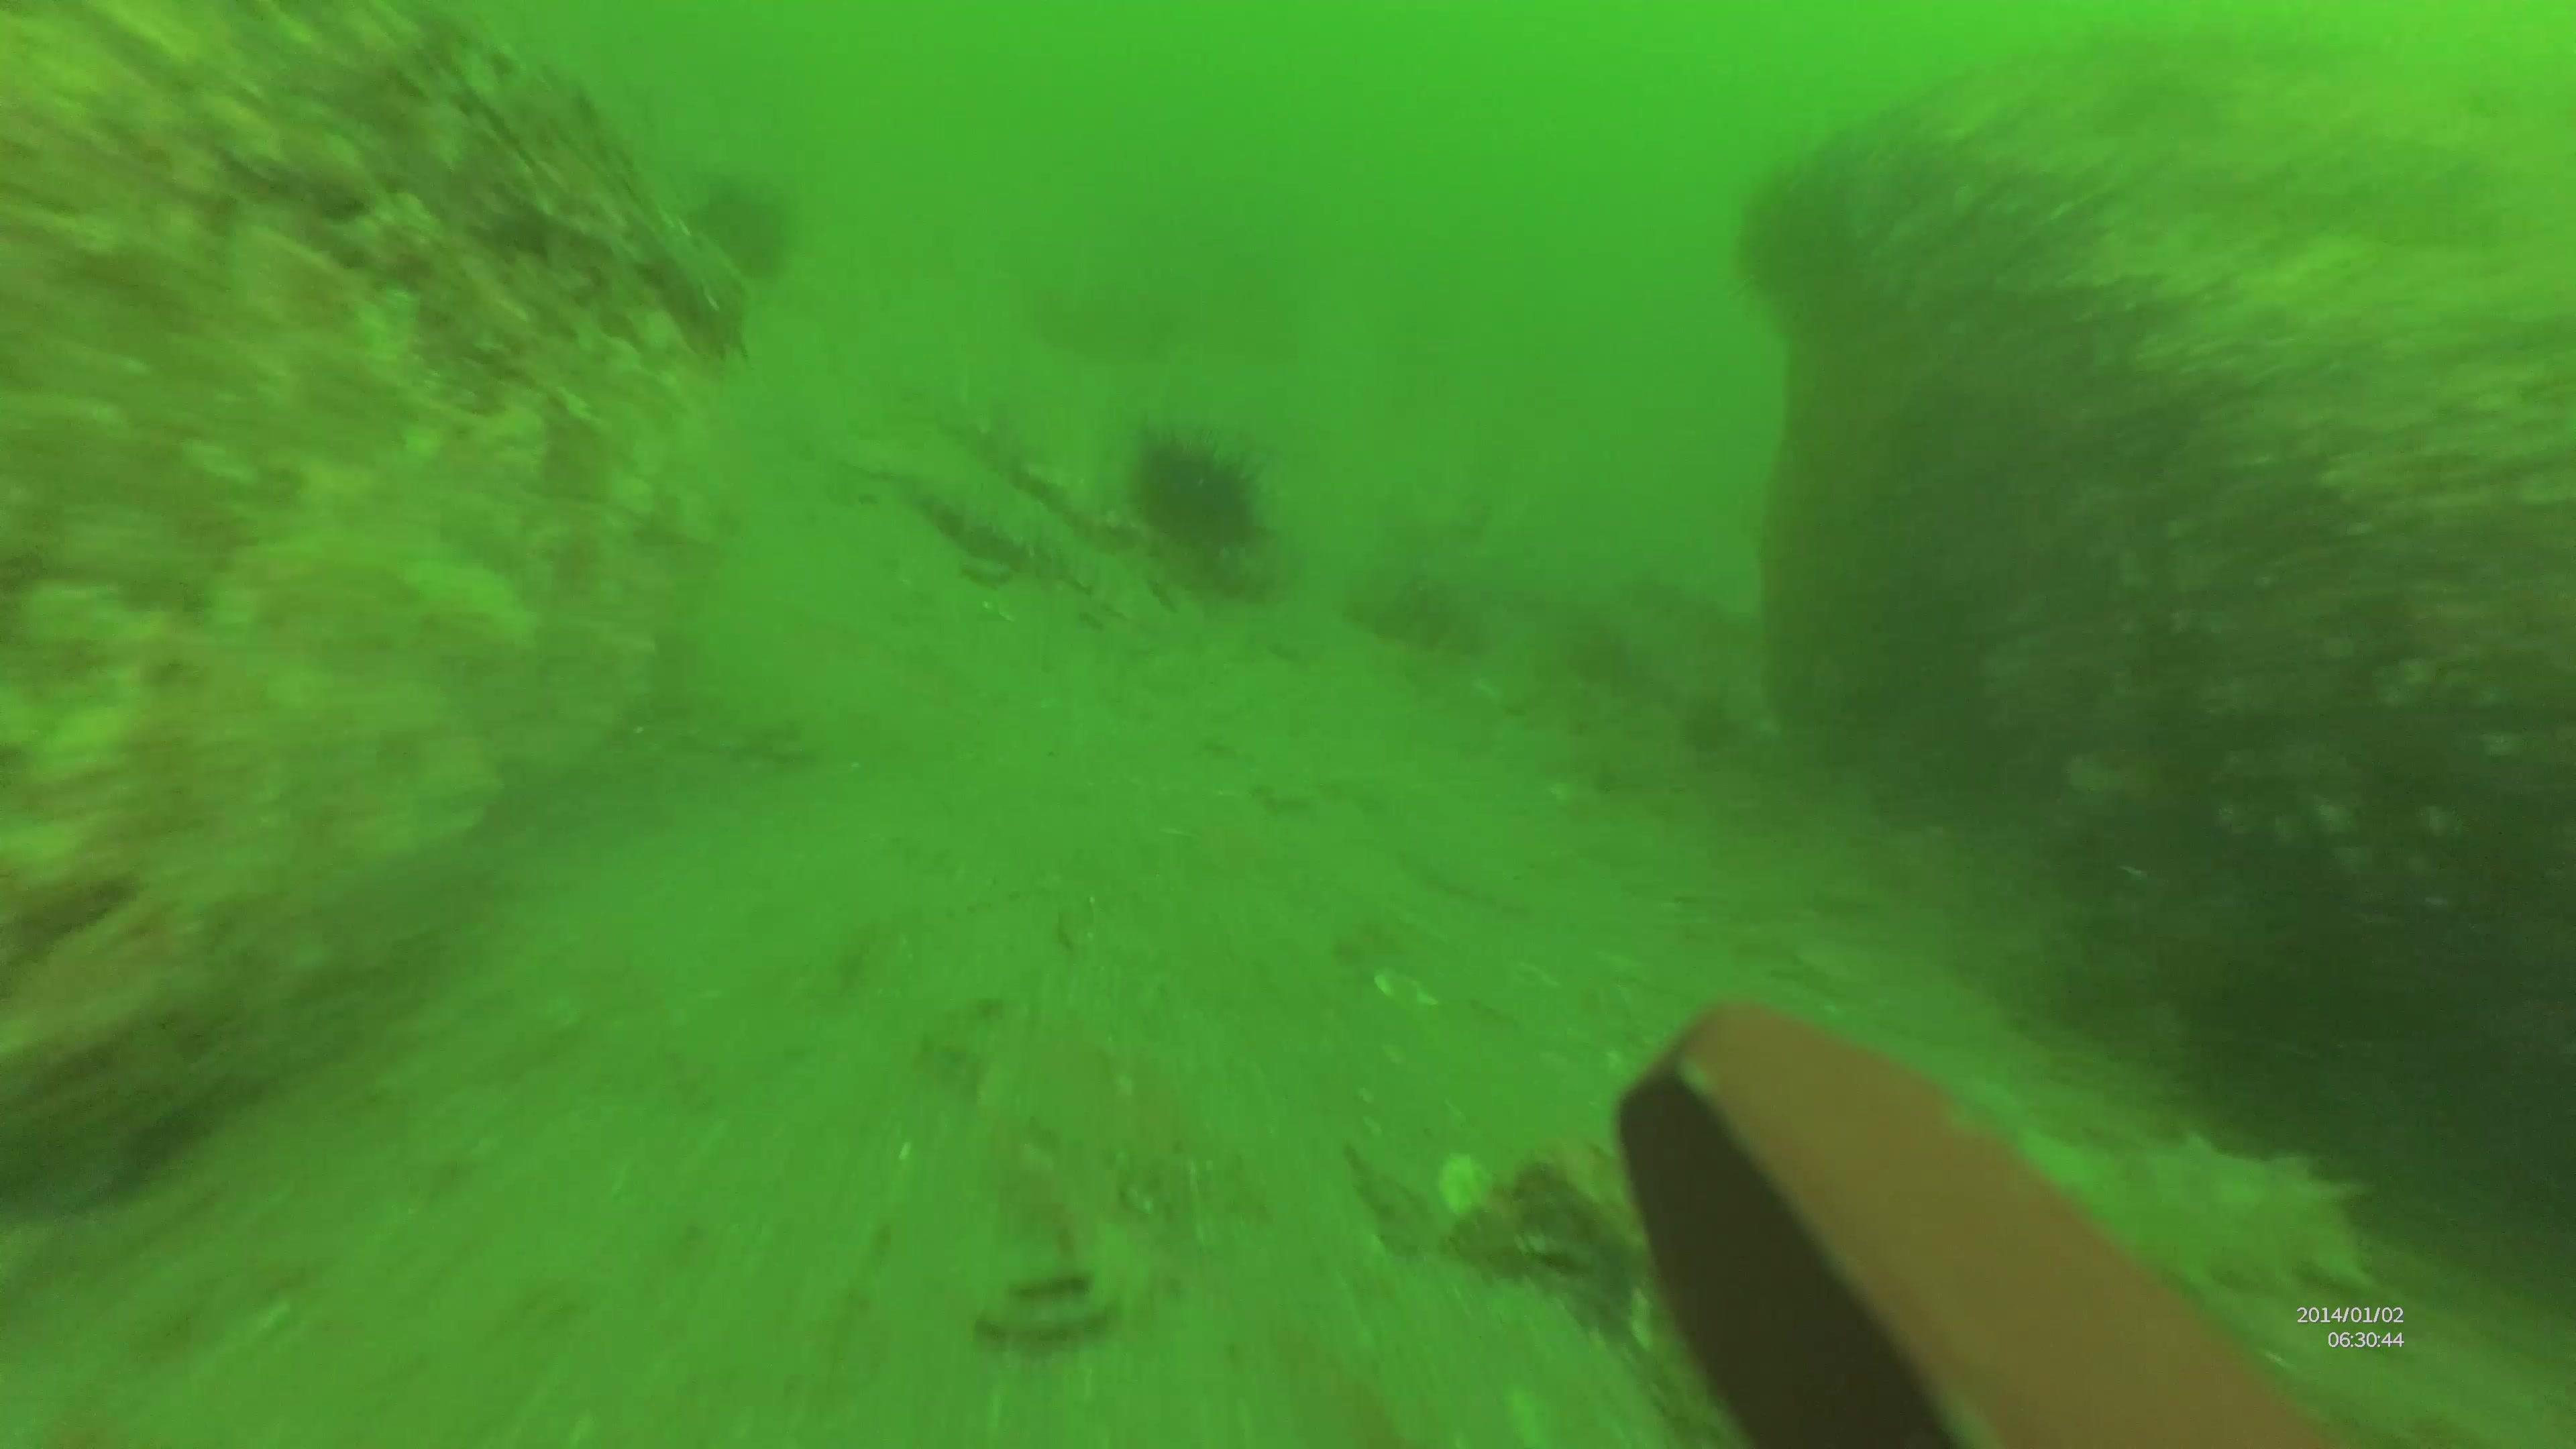echinus: (1111, 418, 1281, 561)
holothurian: (1951, 1155, 2387, 1283)
scallop: (1438, 1150, 1491, 1217)
